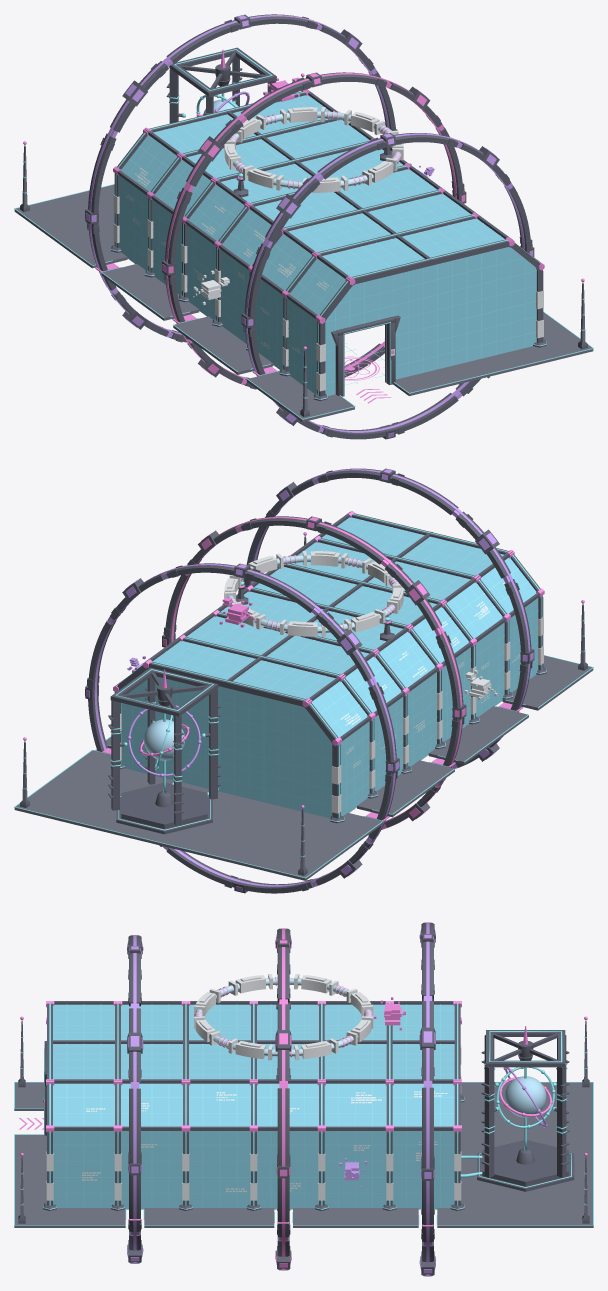
Rendered from QuantumLabCage.fbx.
3 renders of one model, top to bottom at view 1: azimuth 30°, elevation 25°; view 2: azimuth 150°, elevation 25°; view 3: azimuth 270°, elevation 25°, orthographic.
Visible parts, largest first — view 1: QuantumHoloWalls, QuantumDeck, QuantumFrame, QuantumGrid, QuantumRingA, QuantumRingB, QuantumRingC, QuantumAccelMagnets, QuantumReactorFrame, QuantumEdgeGlow, QuantumRingAGlow, QuantumRingBGlow (+8 smaller); view 2: QuantumHoloWalls, QuantumDeck, QuantumFrame, QuantumReactorFrame, QuantumGrid, QuantumRingC, QuantumRingB, QuantumRingA, QuantumAccelMagnets, QuantumEdgeGlow, QuantumRingCGlow, QuantumRingBGlow (+10 smaller); view 3: QuantumHoloWalls, QuantumDeck, QuantumFrame, QuantumGrid, QuantumReactorFrame, QuantumAccelMagnets, QuantumRingC, QuantumRingB, QuantumRingA, QuantumEdgeGlow, QuantumTrim, QuantumRingCGlow (+10 smaller).
Boxes of the visible parts, x1,y1,x2,y2 form: QuantumHoloWalls: (119, 95, 536, 396); QuantumDeck: (14, 184, 593, 422); QuantumFrame: (111, 89, 546, 400); QuantumGrid: (119, 98, 536, 394); QuantumRingA: (241, 132, 534, 439); QuantumRingB: (162, 72, 466, 389); QuantumRingC: (85, 14, 397, 342); QuantumAccelMagnets: (224, 107, 403, 192); QuantumReactorFrame: (166, 47, 276, 123); QuantumEdgeGlow: (22, 91, 585, 399); QuantumRingAGlow: (242, 133, 533, 437); QuantumRingBGlow: (162, 73, 465, 385); QuantumHoloWalls: (121, 517, 538, 818); QuantumDeck: (14, 655, 593, 880); QuantumFrame: (111, 511, 546, 823); QuantumReactorFrame: (108, 667, 220, 834); QuantumGrid: (121, 520, 538, 816); QuantumRingC: (85, 563, 399, 893); QuantumRingB: (162, 516, 466, 829); QuantumRingA: (243, 468, 534, 768); QuantumAccelMagnets: (224, 551, 403, 637); QuantumEdgeGlow: (22, 514, 585, 857); QuantumRingCGlow: (86, 564, 399, 891); QuantumRingBGlow: (163, 517, 465, 828); QuantumHoloWalls: (53, 1004, 454, 1209); QuantumDeck: (14, 1082, 593, 1227); QuantumFrame: (43, 1001, 464, 1210); QuantumGrid: (53, 1004, 454, 1207); QuantumReactorFrame: (477, 1030, 574, 1191); QuantumAccelMagnets: (194, 974, 373, 1060); QuantumRingC: (420, 922, 435, 1276); QuantumRingB: (275, 928, 291, 1270); QuantumRingA: (127, 935, 142, 1263); QuantumEdgeGlow: (20, 1003, 587, 1209); QuantumTrim: (44, 1044, 461, 1200); QuantumRingCGlow: (419, 922, 435, 1276).
Size of the model in its own units: 1060 by 1060 by 1707.
